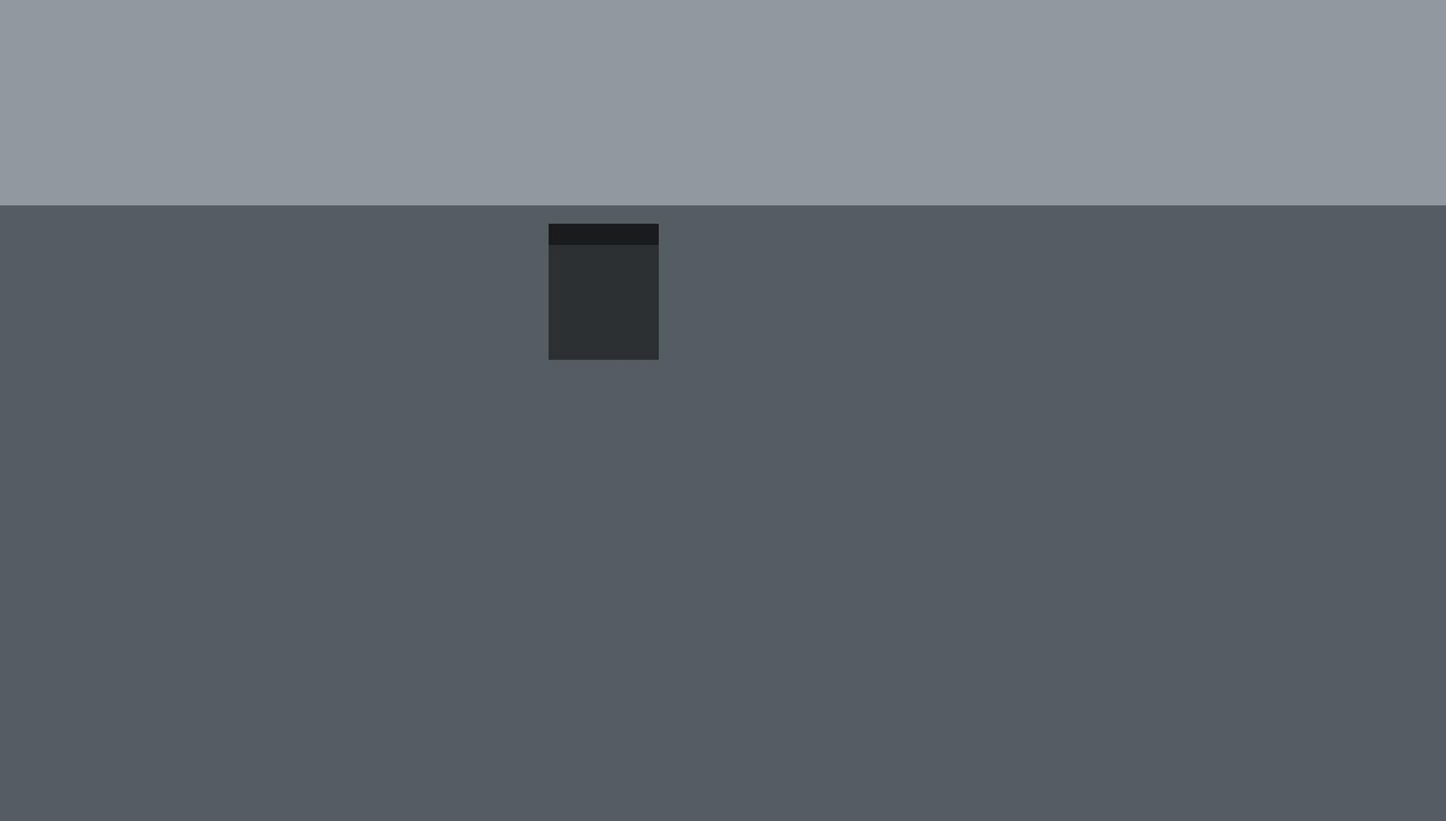garbage container: (546, 220, 661, 362)
